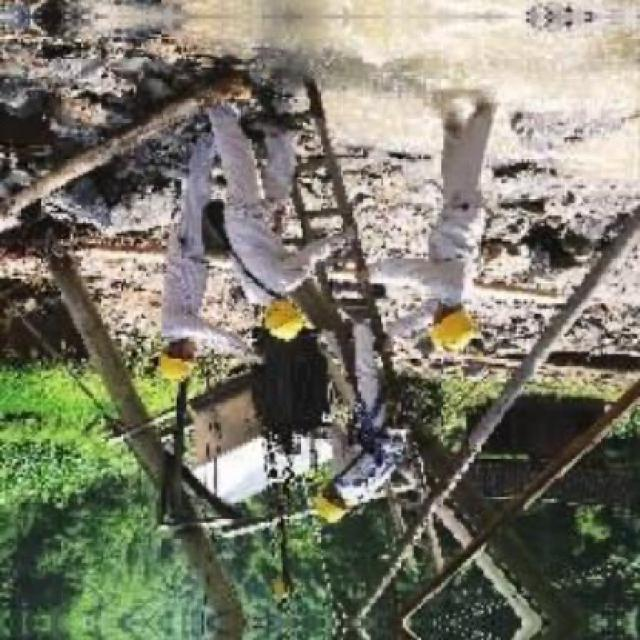con casco: (116, 300, 236, 390), (228, 268, 348, 354), (420, 284, 509, 364)
